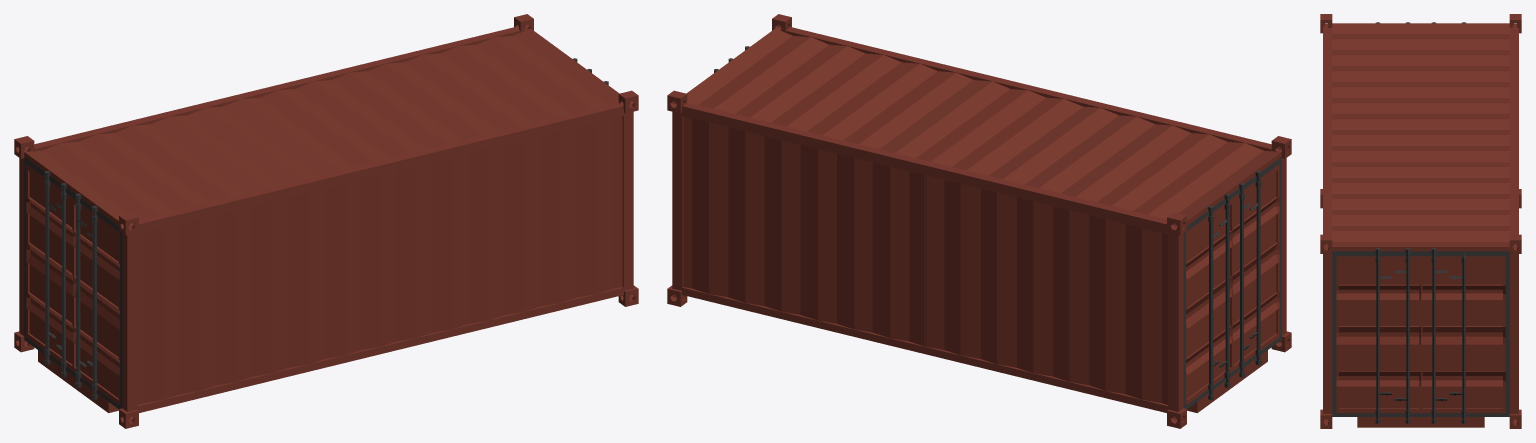
The model's file is Shipping_Container.fbx.
3 renders of one model, left to right at view 1: azimuth 30°, elevation 25°; view 2: azimuth 150°, elevation 25°; view 3: azimuth 270°, elevation 25°, orthographic. The views are drawn at different scales.
Visible parts, largest first — view 1: shipping_container; view 2: shipping_container; view 3: shipping_container.
Boxes of the visible parts, <box> form: shipping_container: <box>14,14,638,428</box>; shipping_container: <box>667,14,1291,428</box>; shipping_container: <box>1320,14,1521,428</box>.
Size of the model in its own units: 24.04 by 9.27 by 8.97.
